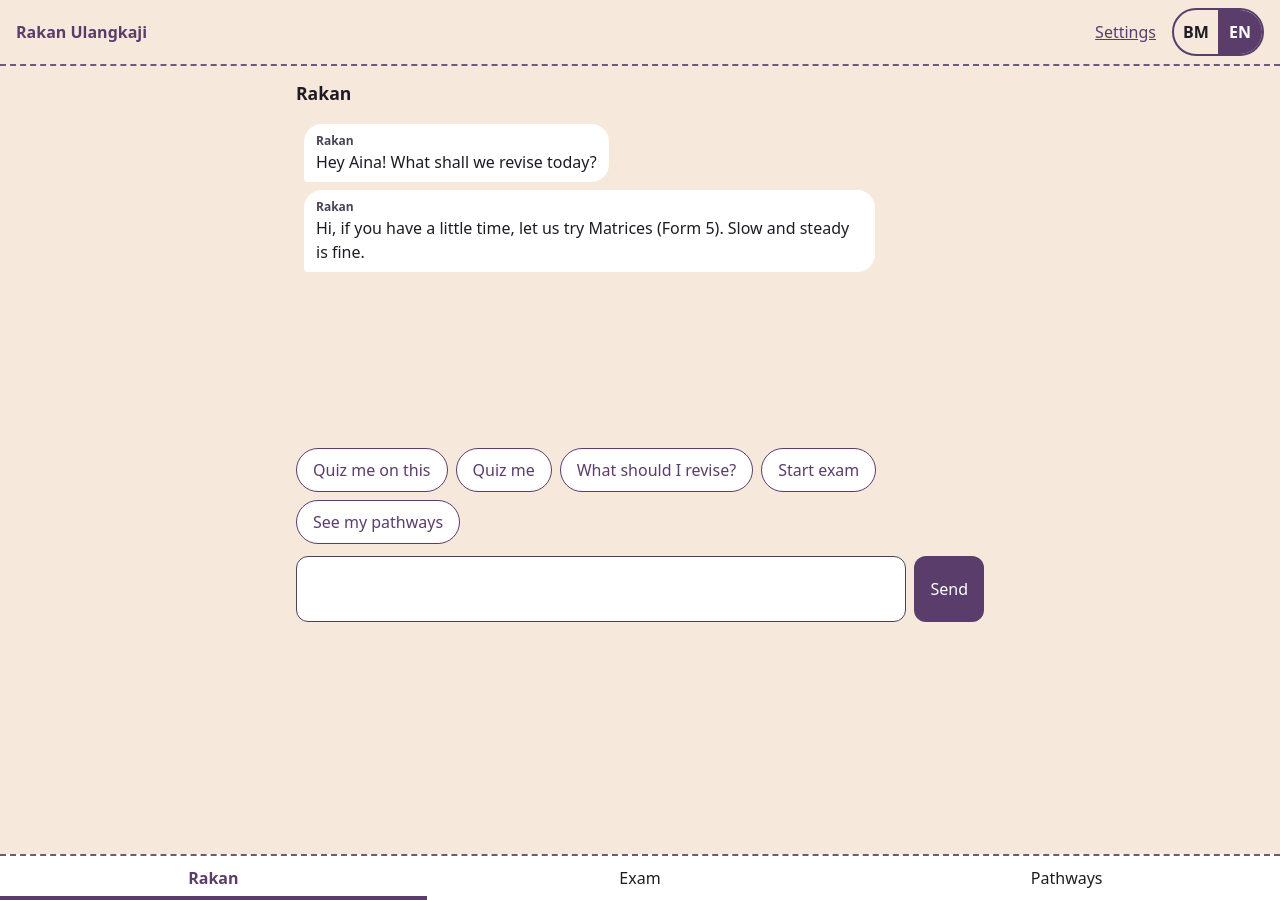
Rakan quiz and nudge on the chat screen › shows one nudge for the weakest topic, with a Quiz me on this chip that starts that topic
The width and height of the screenshot is (1280, 900).
Click the button "Quiz me on this".
click(372, 470)  # box [296,448,448,492]
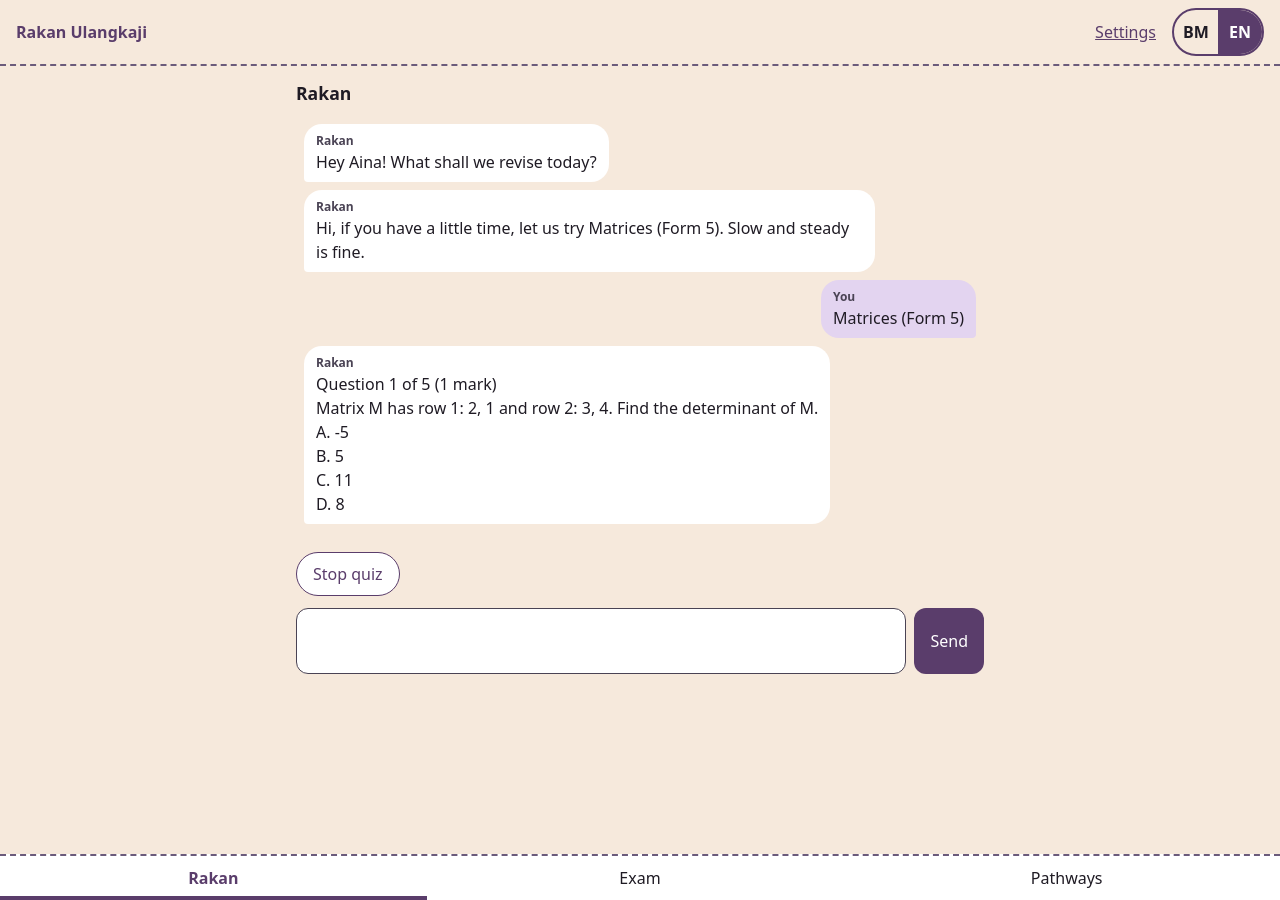
Now the button "Stop quiz" is shown, box [296,552,400,596]
